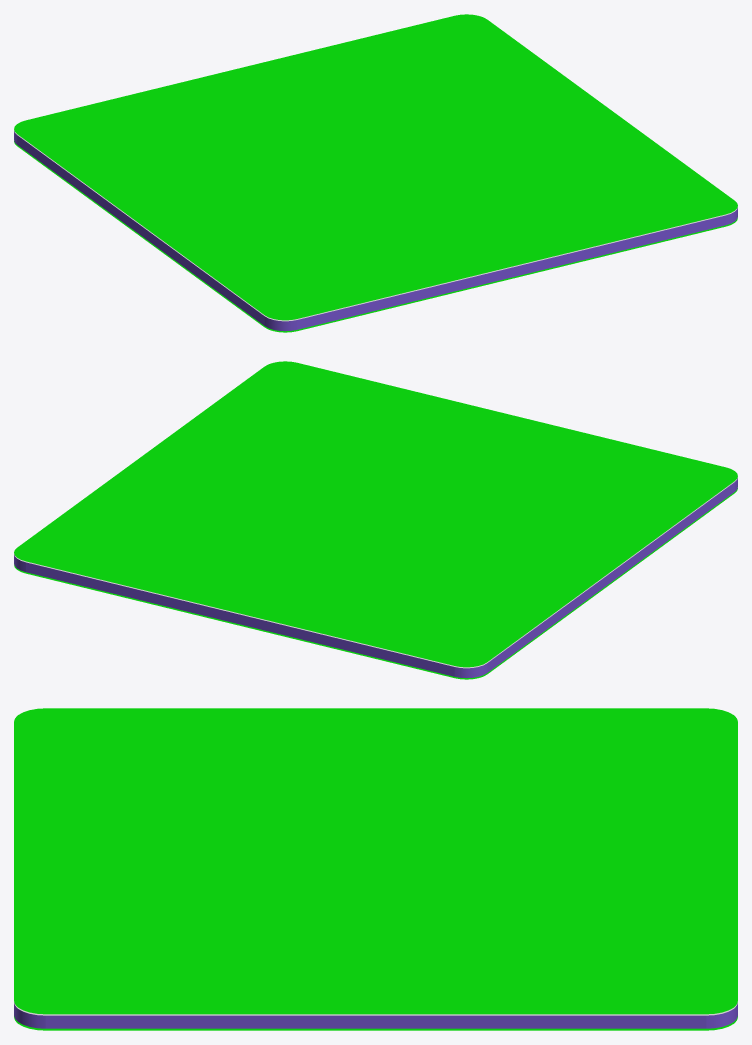
The model's file is RoundSquareWithBackSample.fbx.
The picture shows the model from 3 angles, top to bottom: view 1: azimuth 30°, elevation 25°; view 2: azimuth 150°, elevation 25°; view 3: azimuth 270°, elevation 25°; orthographic projection. The views are drawn at different scales.
Parts seen in each view (by area): view 1: RoundSquare; view 2: RoundSquare; view 3: RoundSquare.
Part boxes in pixels (<box>): RoundSquare: <box>14,14,737,332</box>; RoundSquare: <box>14,361,737,679</box>; RoundSquare: <box>14,708,737,1030</box>.
Bounding box in the file's own units: 200 × 4.98 × 200.
